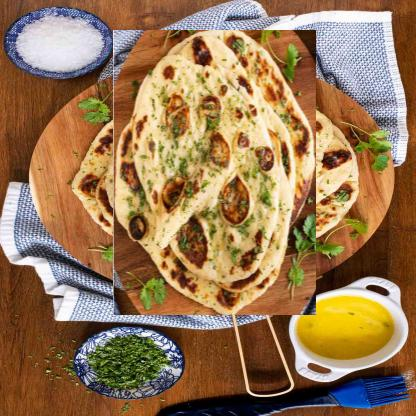naan: (93, 50, 337, 295)
